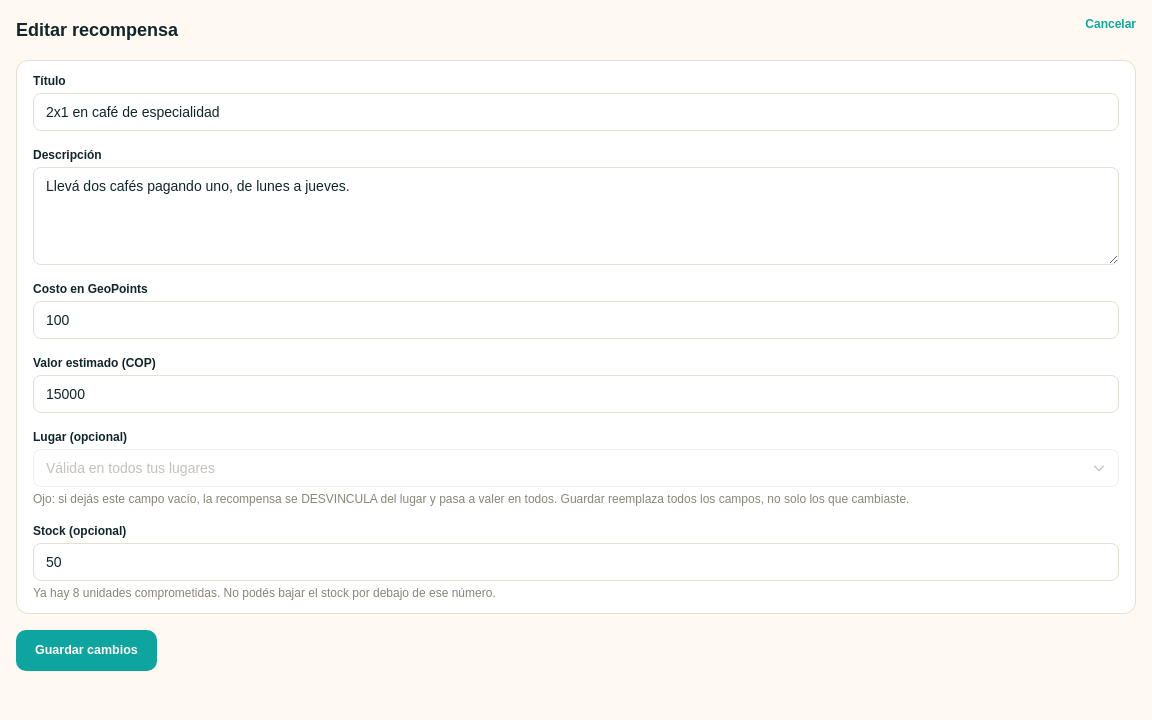
Test: RewardEditPage › el 403 de negocio no activo culpa al negocio, no a la recompensa
The width and height of the screenshot is (1152, 720).
Expected: the field labelled "Título" is shown, [33,93,1119,131]
Click the button "Guardar cambios": [86, 650] box [16,630,157,671]
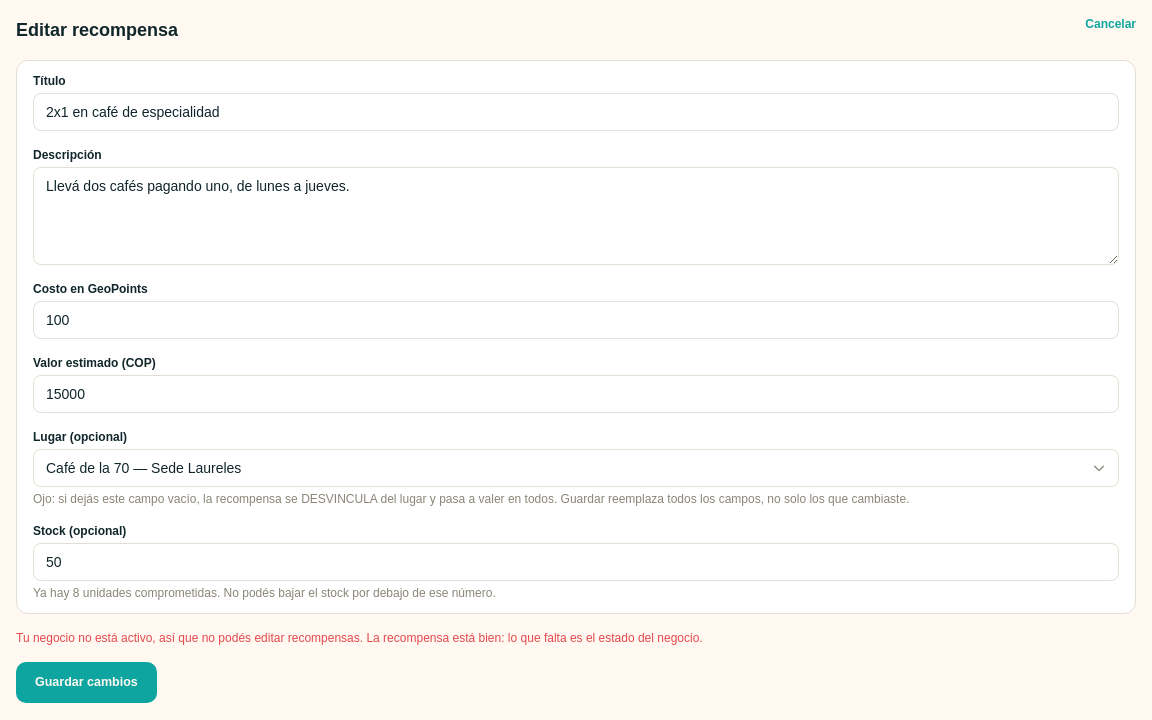
Expected: the message shows "Tu negocio no está activo", [16,631,703,645]
